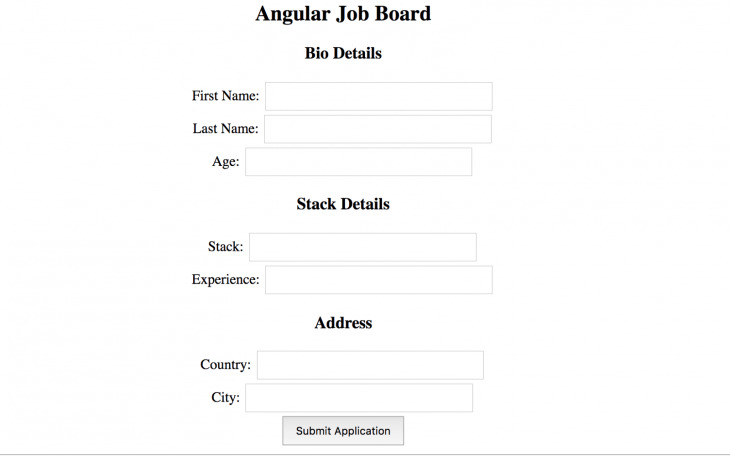_form_: (141, 40, 557, 456)
button: (280, 413, 406, 448)
field: (242, 381, 474, 415), (243, 145, 473, 179), (261, 264, 495, 297), (260, 113, 493, 146), (252, 349, 487, 381), (245, 232, 478, 264), (261, 81, 493, 111)
field_with_label: (192, 111, 495, 147), (193, 263, 496, 299), (200, 347, 490, 382), (192, 80, 495, 113), (207, 230, 480, 265), (215, 145, 475, 181), (213, 381, 475, 416)
